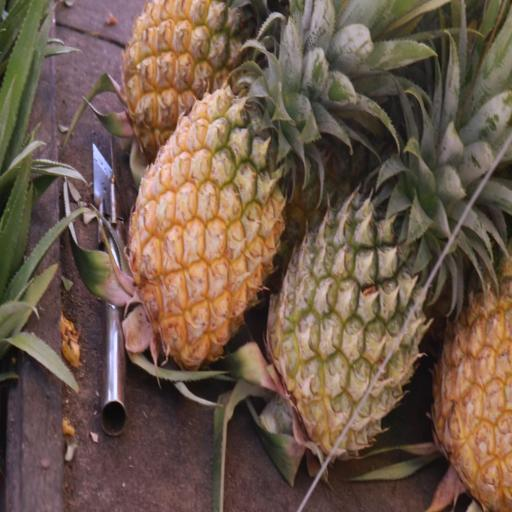Pineapple - v8 v1: (120, 61, 291, 375), (120, 0, 251, 174)
